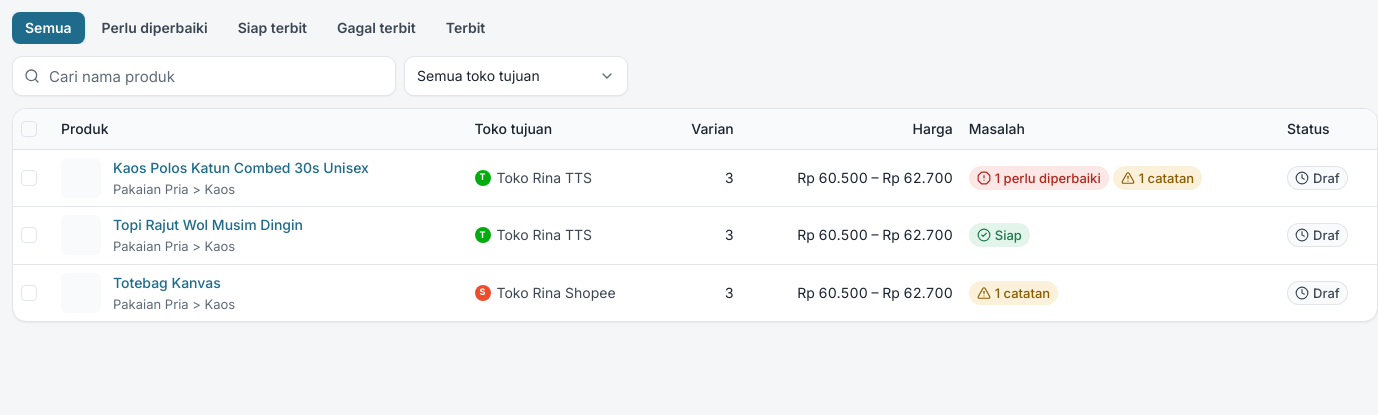
DraftsView › names the drafts the api refuses
Click the checkbox named "Pilih Topi Rajut Wol Musim Dingin". click: (29, 235)
box: left=21, top=227, right=37, bottom=243
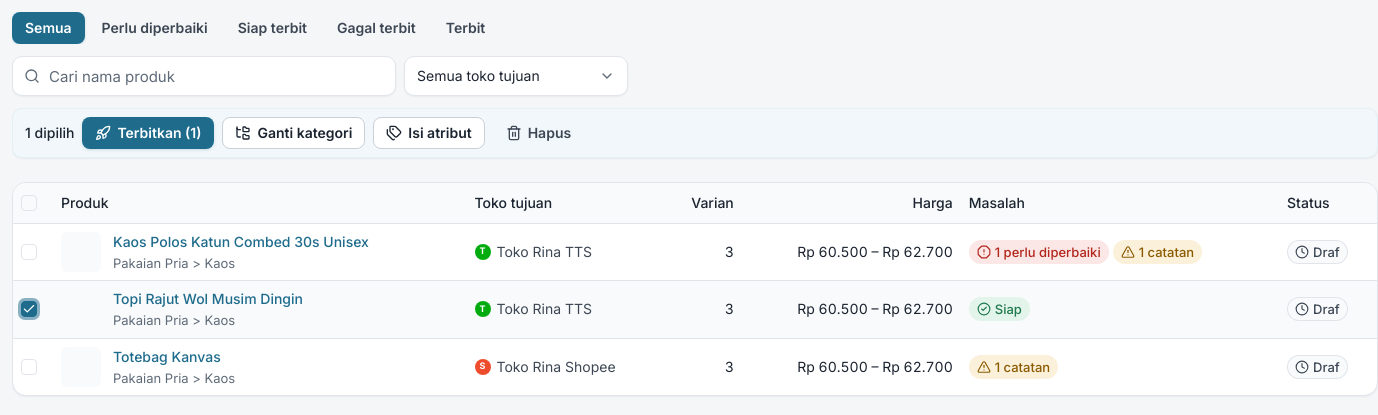
Click the button "Terbitkan (1)". click: (148, 133)
box: left=82, top=117, right=214, bottom=149
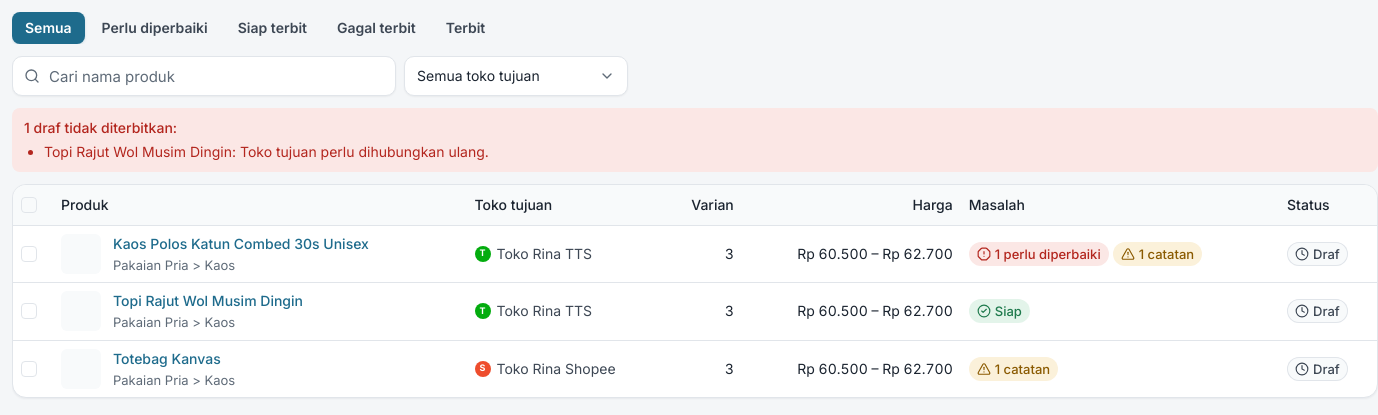
Result: the message shows "1 draf tidak diterbitkan:" at left=24, top=119, right=177, bottom=136
Result: the message shows "Topi Rajut Wol Musim Dingin: Toko tujuan perlu dihubungkan ulang." at left=12, top=108, right=1377, bottom=172
